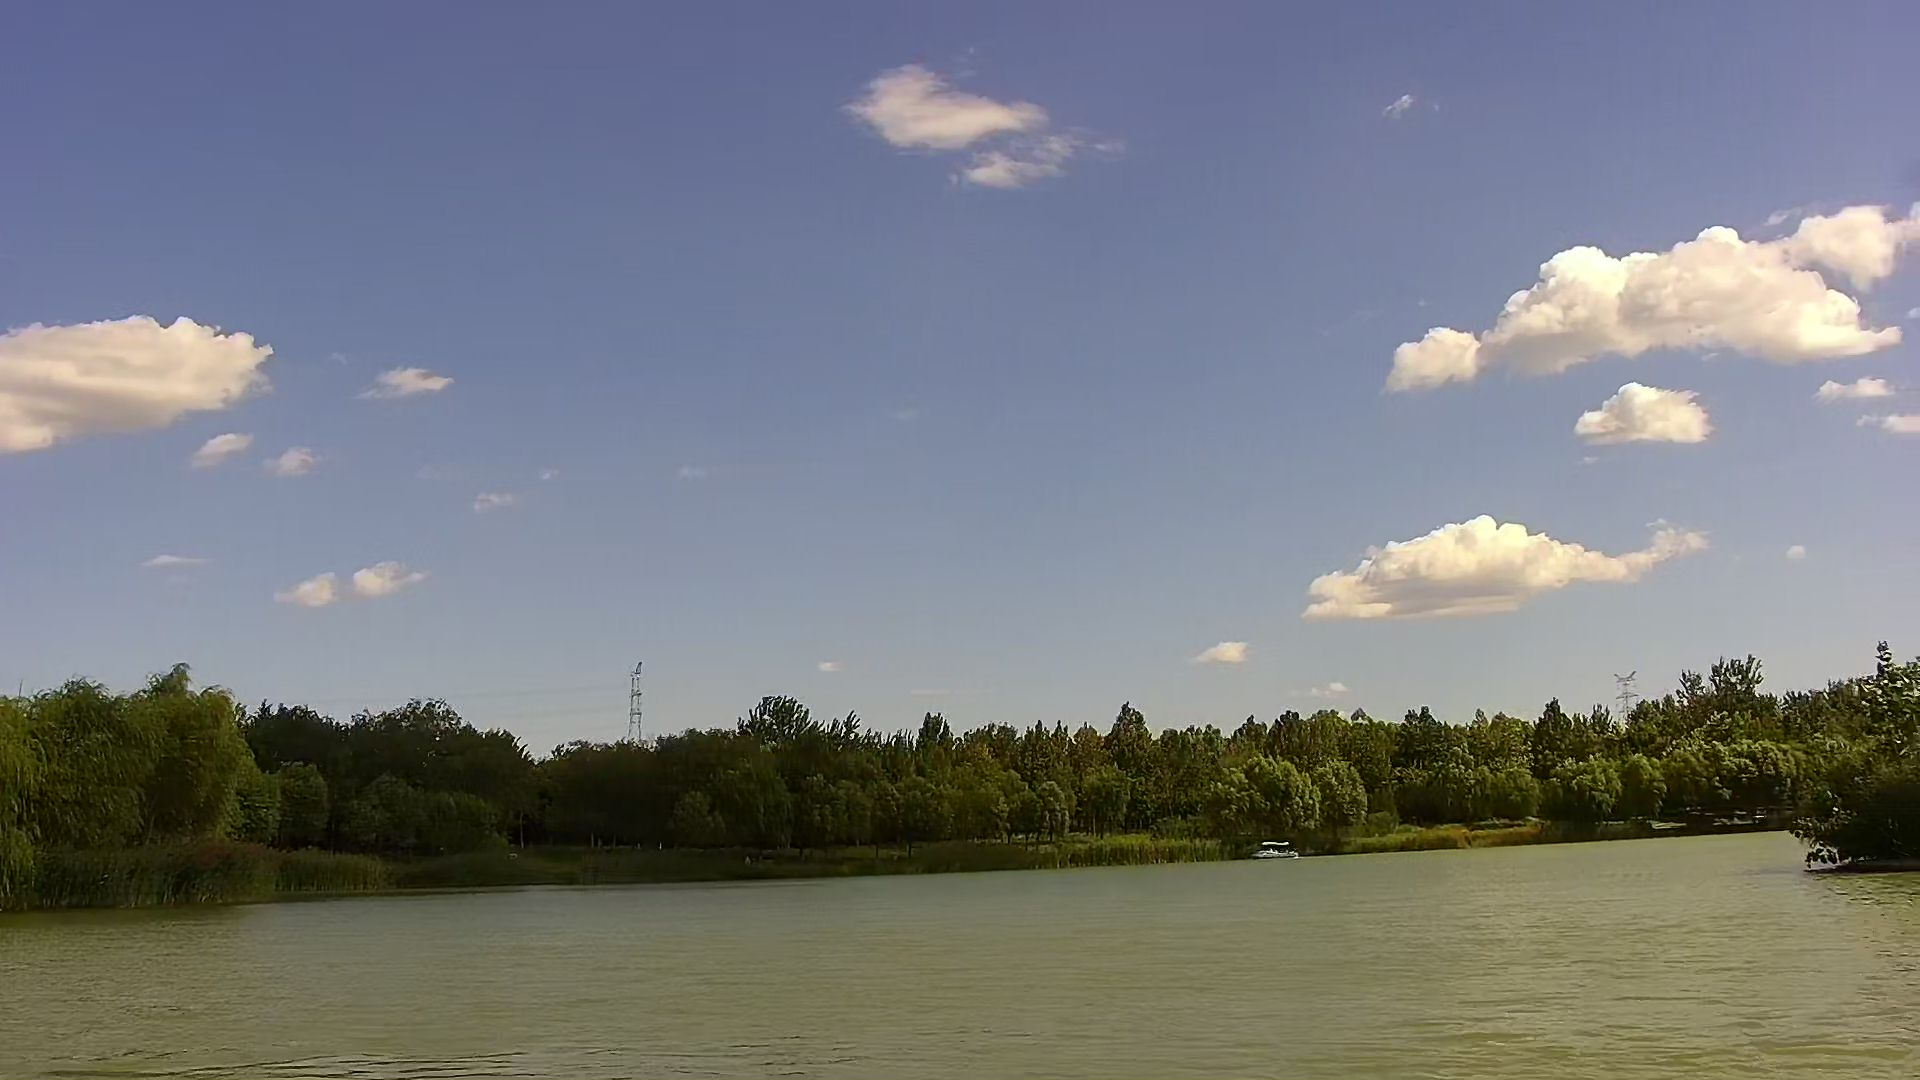boat: (1251, 843, 1302, 861)
